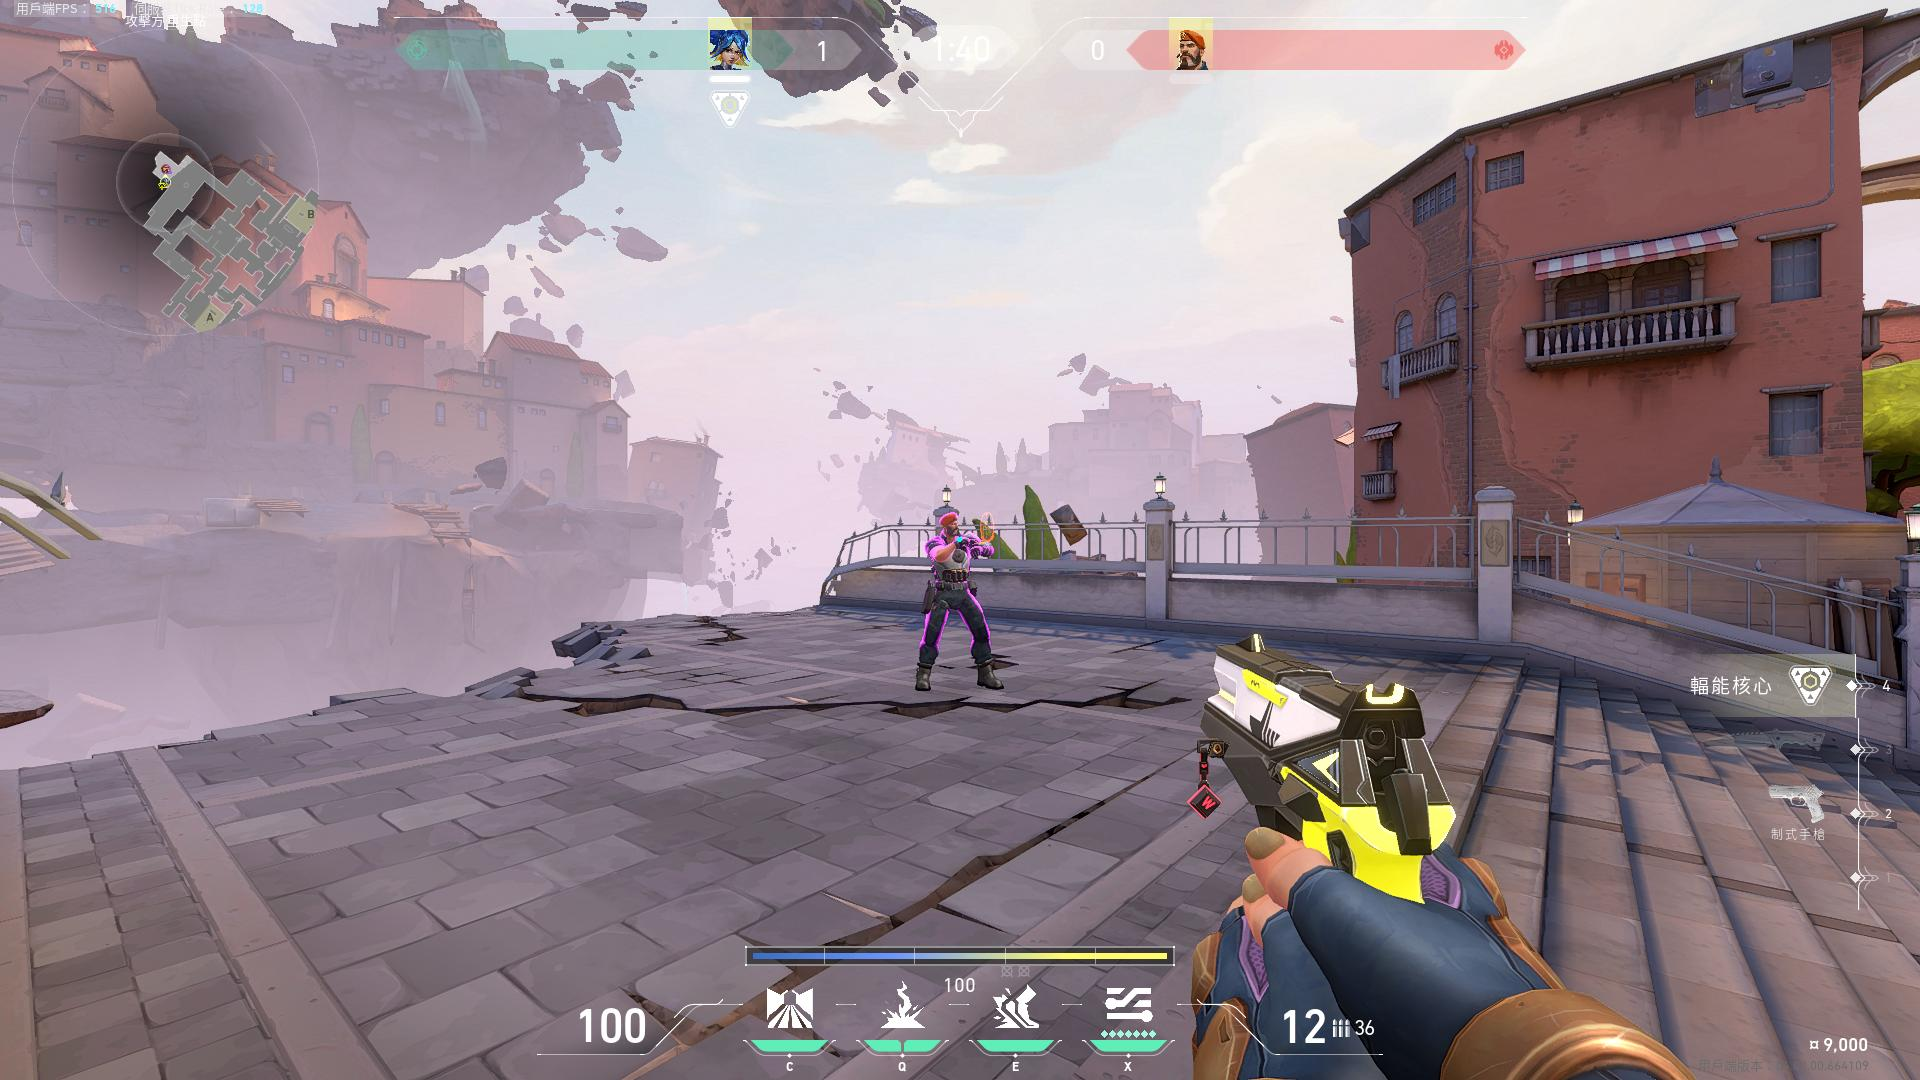enemyBody: (935, 542, 971, 599)
enemyHead: (943, 516, 959, 534)
